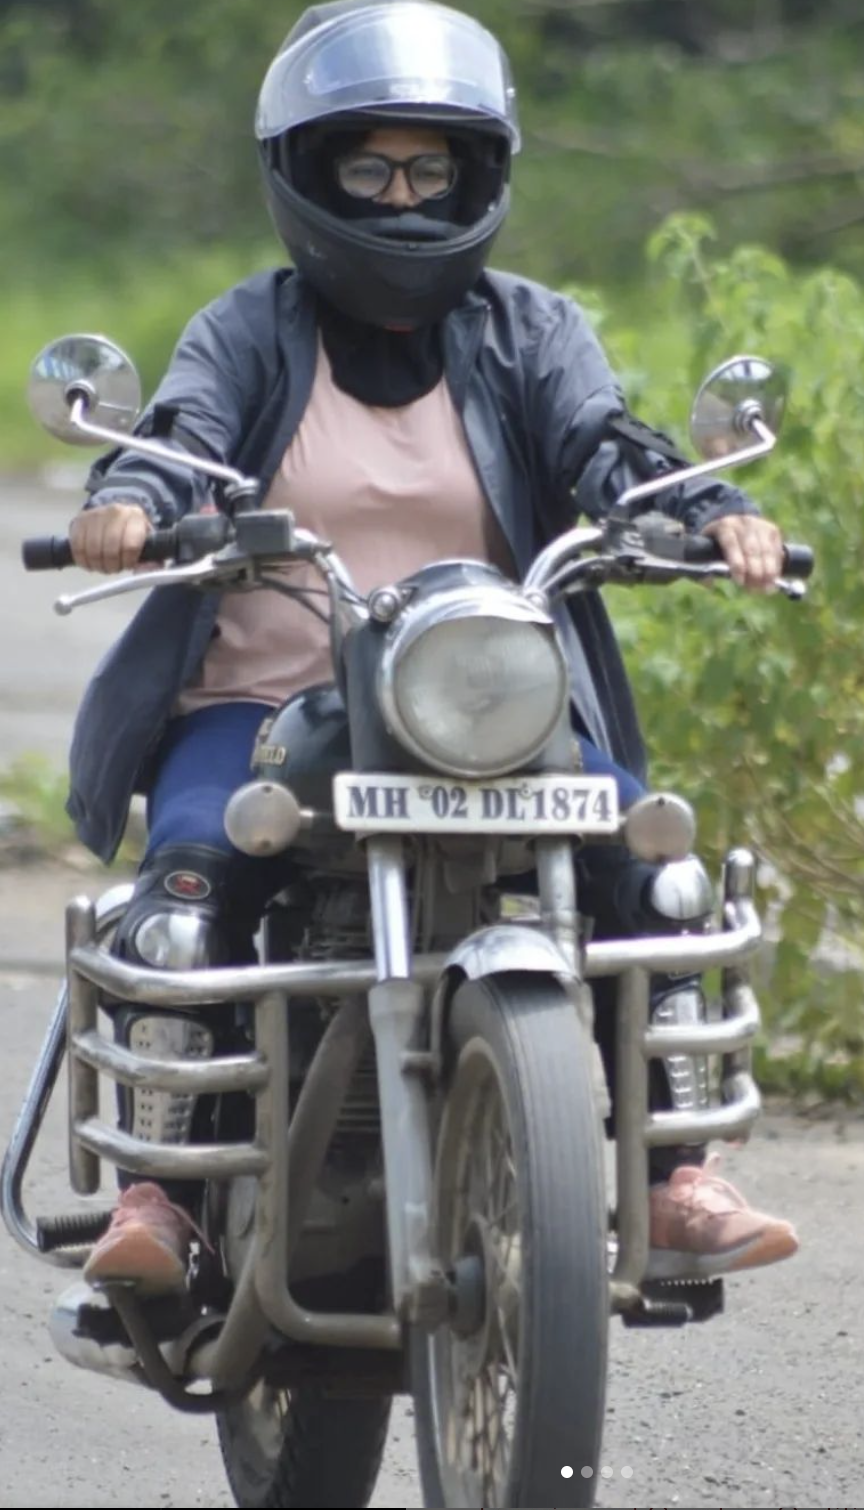motor: (15, 339, 817, 1501)
number: (331, 771, 620, 834)
with helmet: (248, 5, 525, 323)
